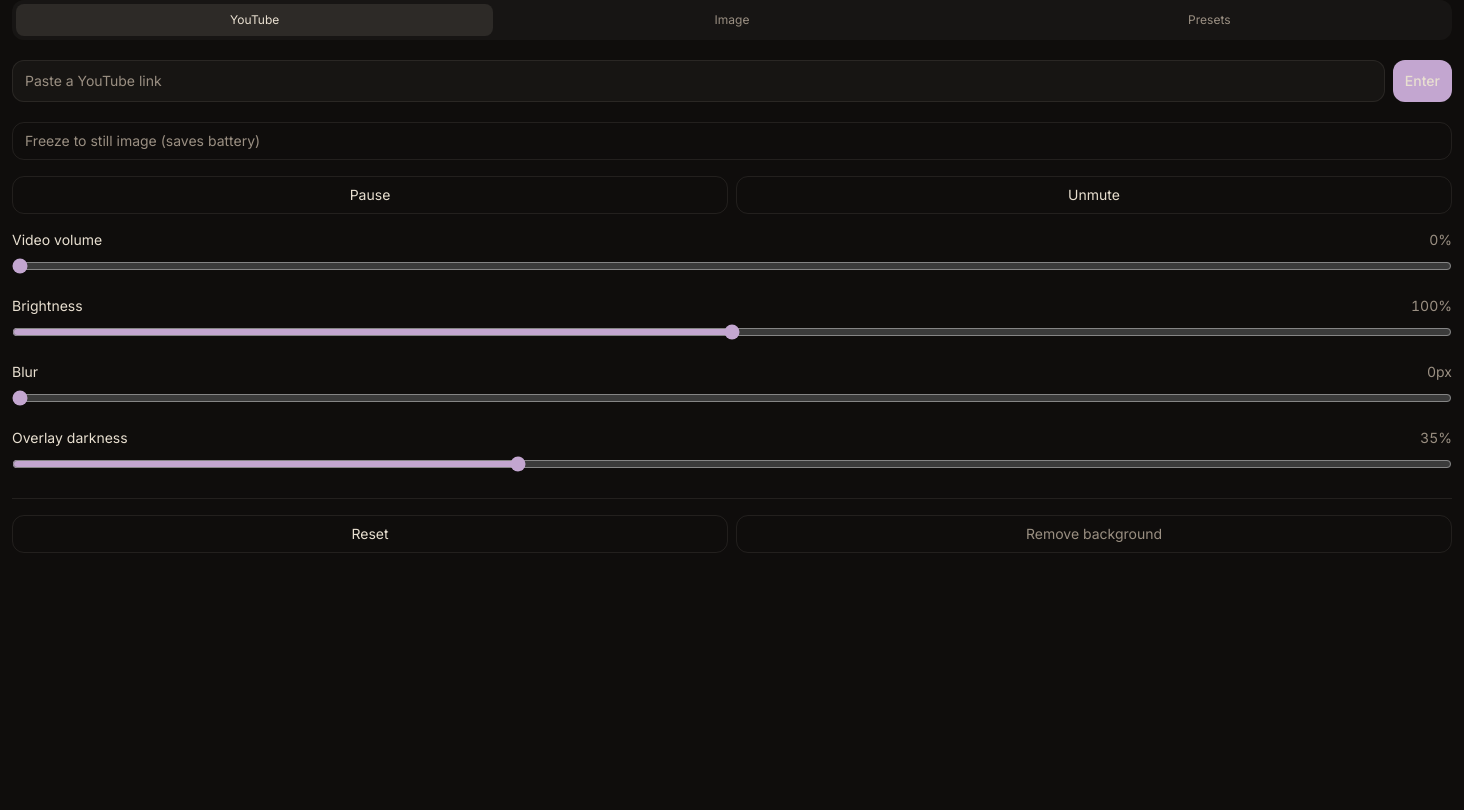
Scenario: BackgroundPanel › shows friendly validation for an invalid URL
Type "https://not-youtube.example/video" into the field named "YouTube video URL" at (698, 81), box [12,60,1385,102]
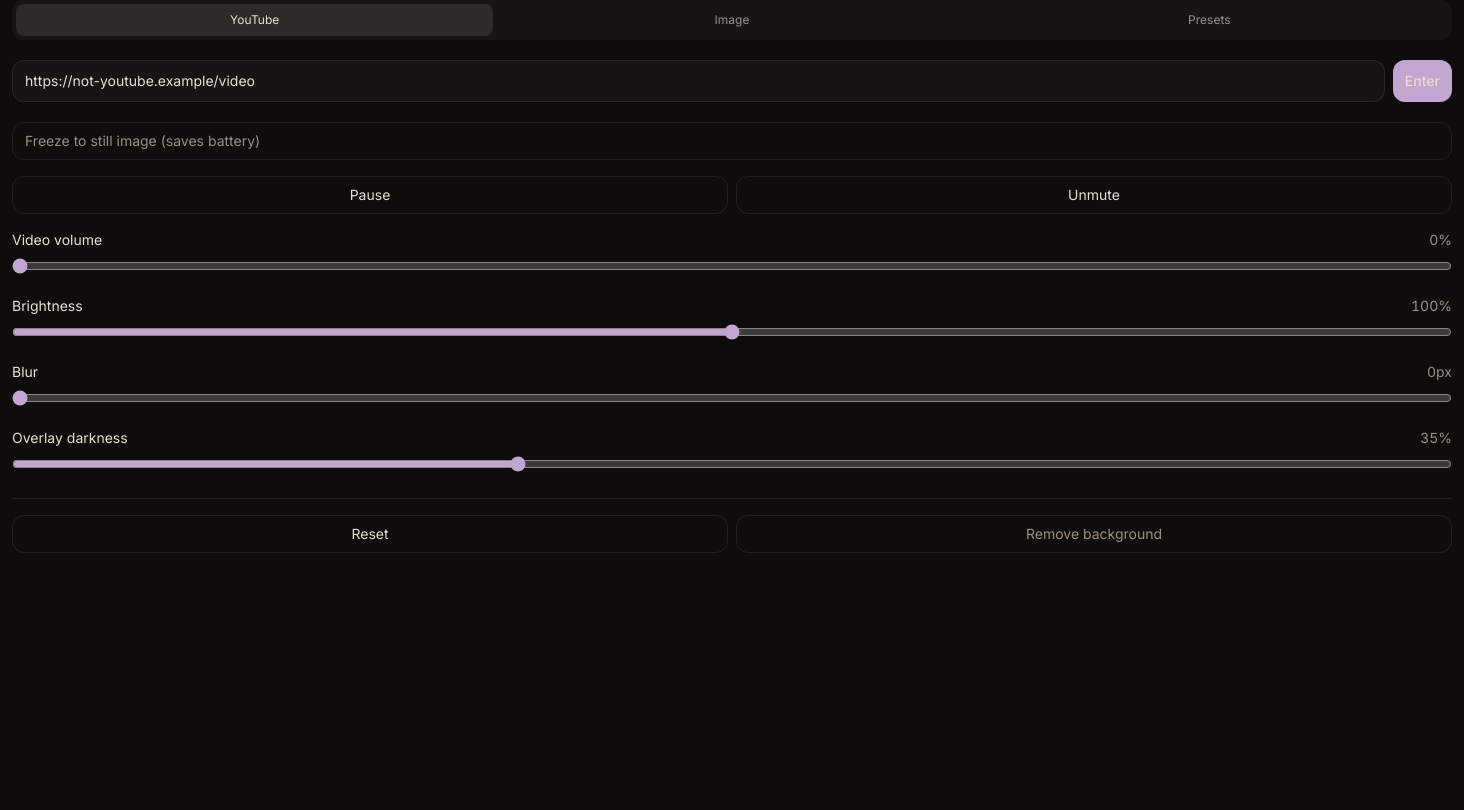
Click the button with aria-label "Set YouTube background" at (1422, 81), box [1393,60,1452,102]
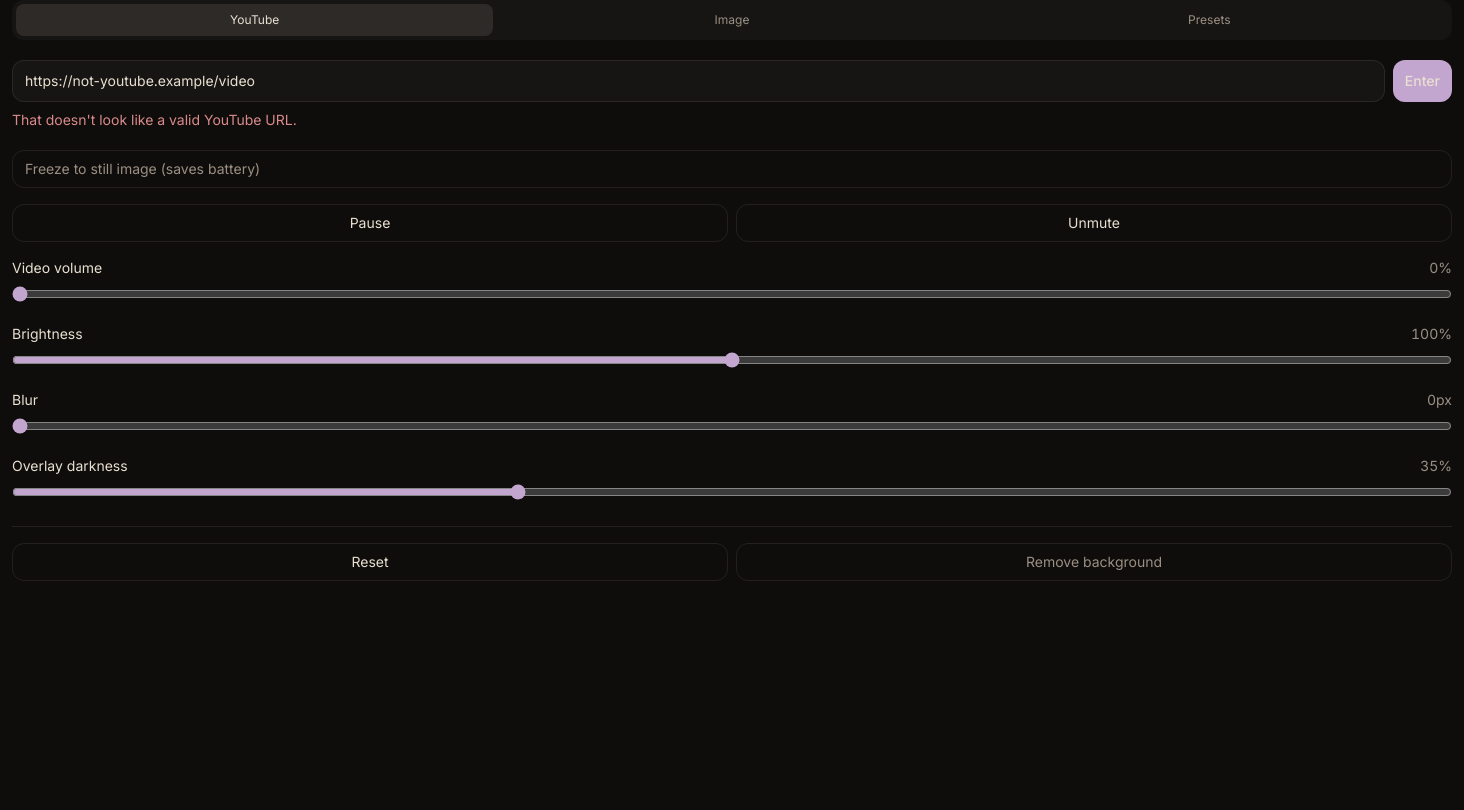
Expected: the message reads "That doesn't look like a valid YouTube URL.", [12,111,297,128]
